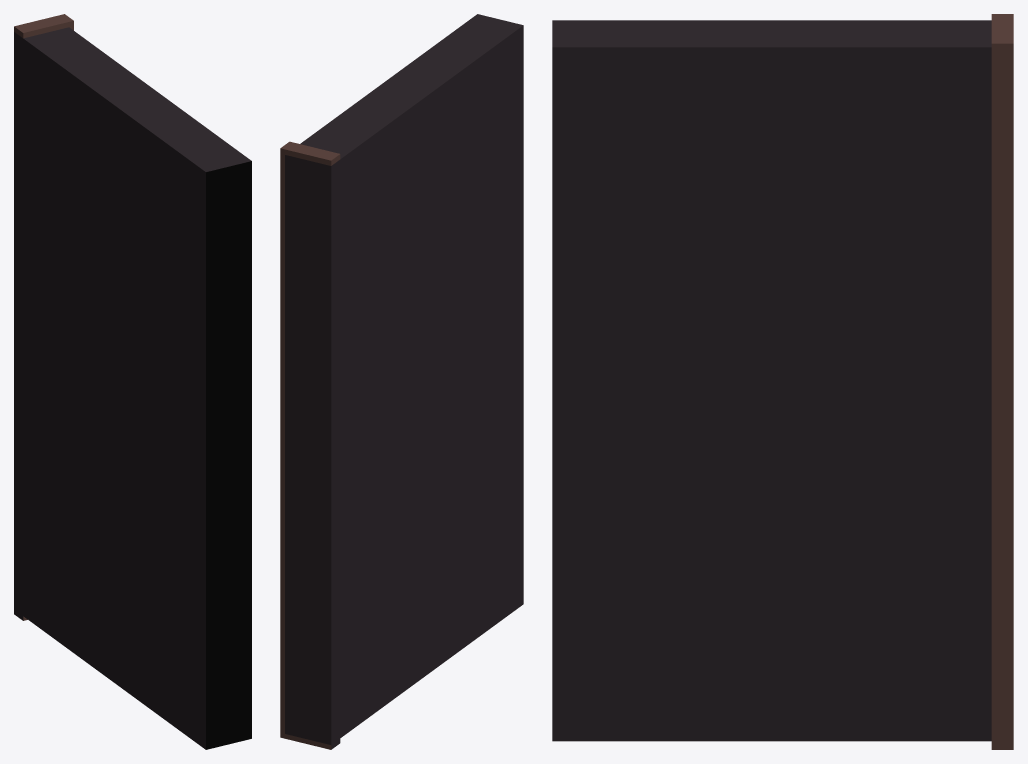
The model's file is wall.fbx.
The picture shows the model from 3 angles, left to right: view 1: azimuth 30°, elevation 25°; view 2: azimuth 150°, elevation 25°; view 3: azimuth 270°, elevation 25°; orthographic projection. The views are drawn at different scales.
Visible parts, largest first — view 1: wall; view 2: wall; view 3: wall.
Part boxes in pixels (box(x1,y1,x2,y2)): wall: box(14, 14, 251, 749); wall: box(280, 14, 523, 749); wall: box(552, 14, 1013, 749).
Bounding box in the file's own units: 55.14 × 611 × 362.
